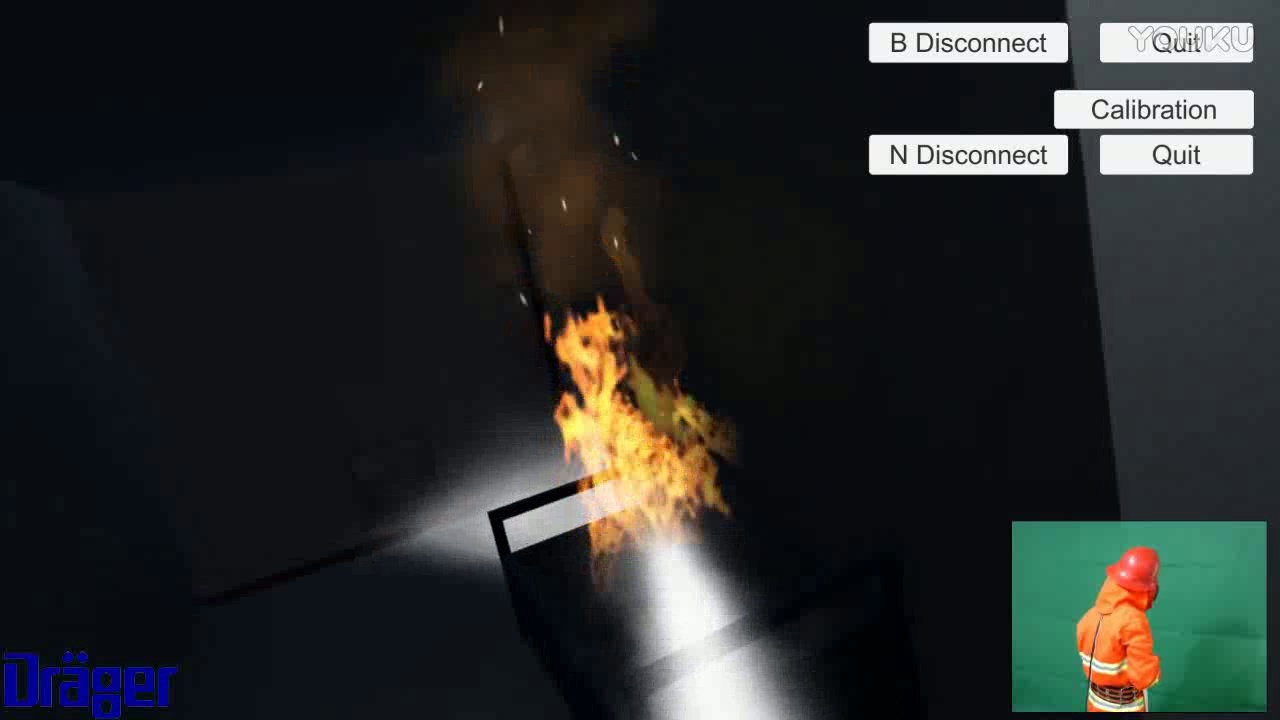fire: (531, 305, 740, 568)
